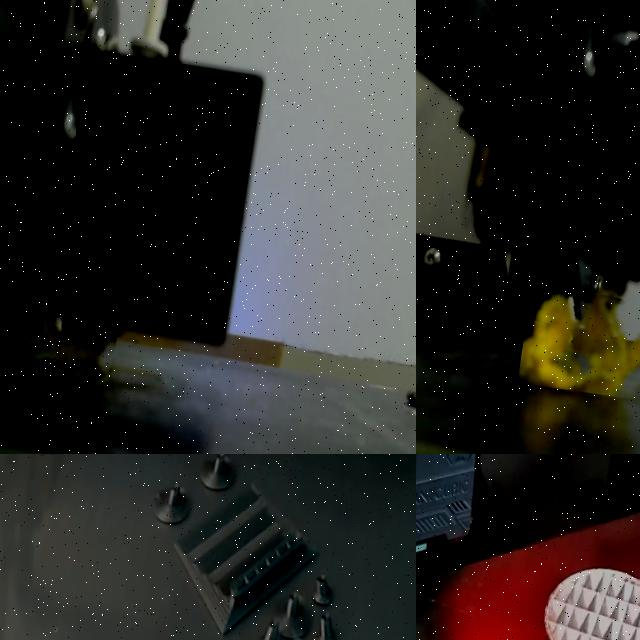spaghetti: (520, 294, 640, 396), (31, 314, 120, 393)
